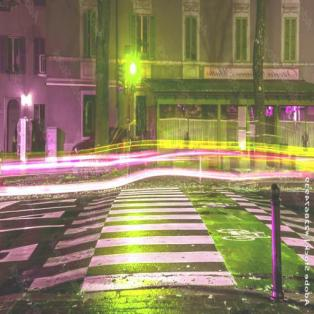Paso de Cebra: (87, 232, 225, 270), (101, 207, 212, 224), (115, 186, 190, 196)
